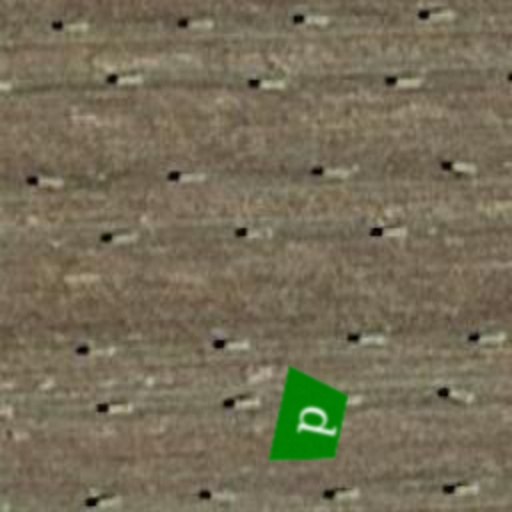trapezoid: (250, 360, 370, 480)
